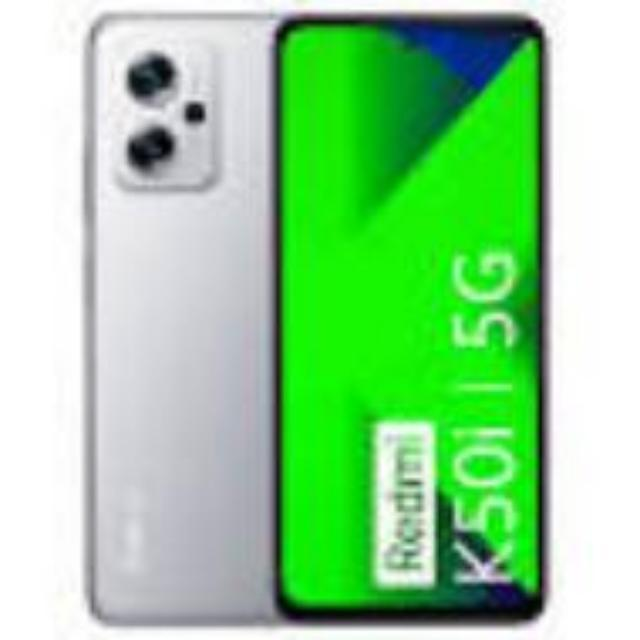Phone: (278, 14, 550, 626), (78, 8, 272, 626)
